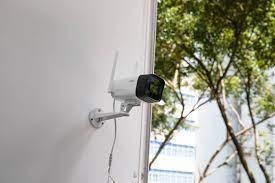tutu: (106, 66, 168, 113)
